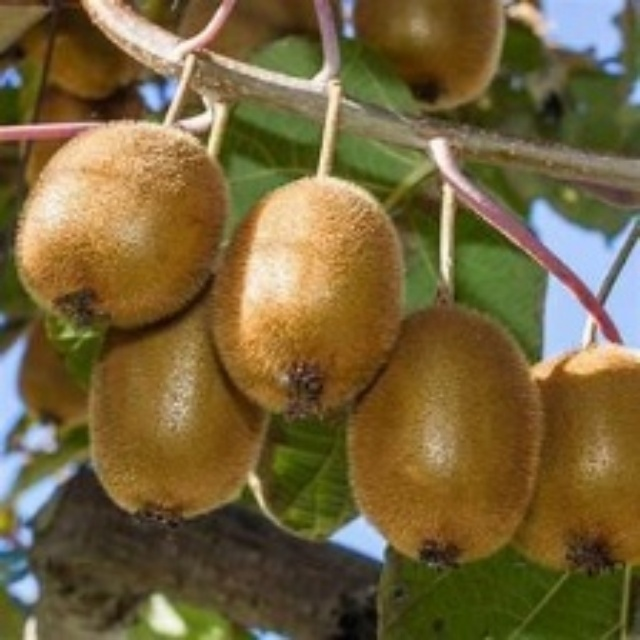kiwi: (346, 315, 542, 570), (86, 302, 265, 534), (31, 122, 218, 324), (230, 194, 398, 413), (509, 345, 639, 580)
